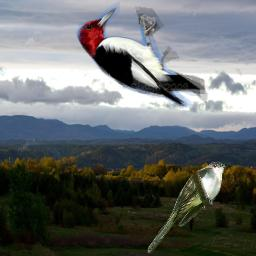Cuckoo: (146, 161, 230, 255)
Woodpecker: (63, 2, 211, 113)
